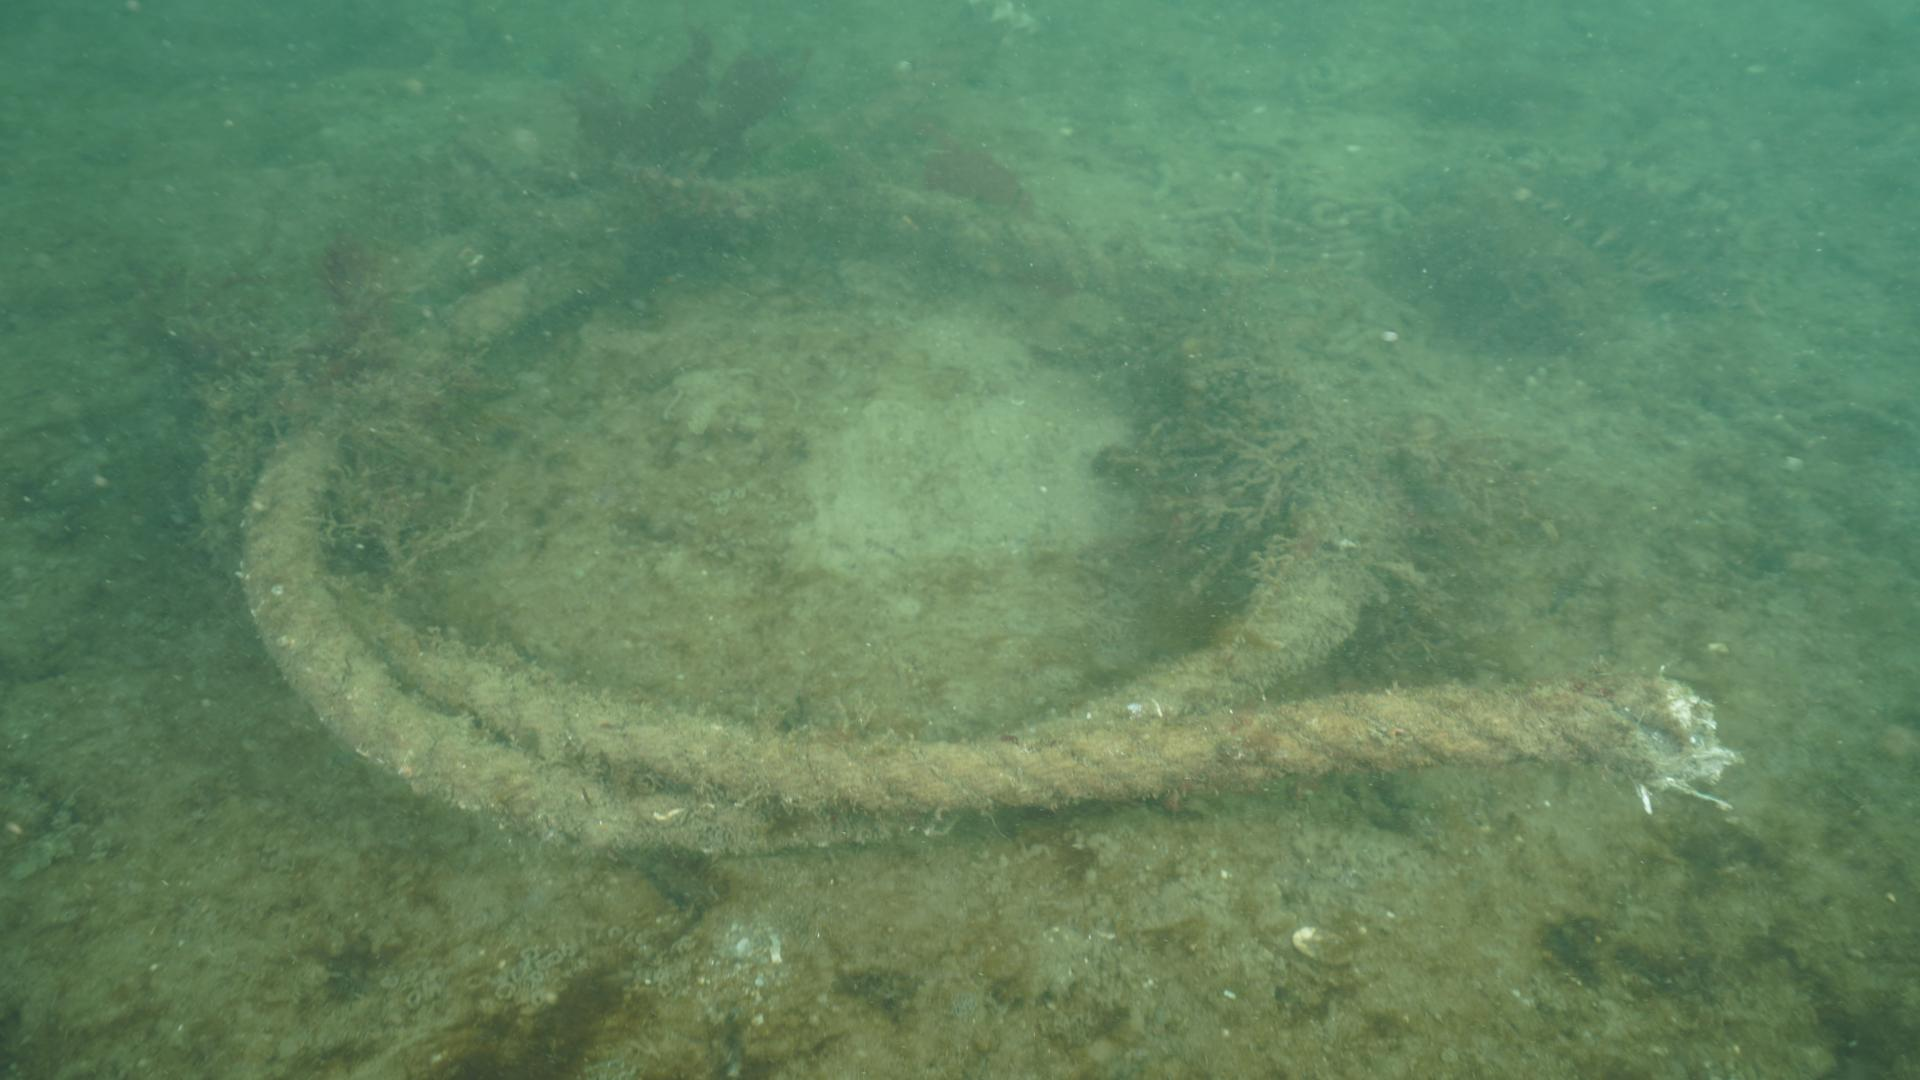bundle of ropes: (224, 164, 1629, 864)
